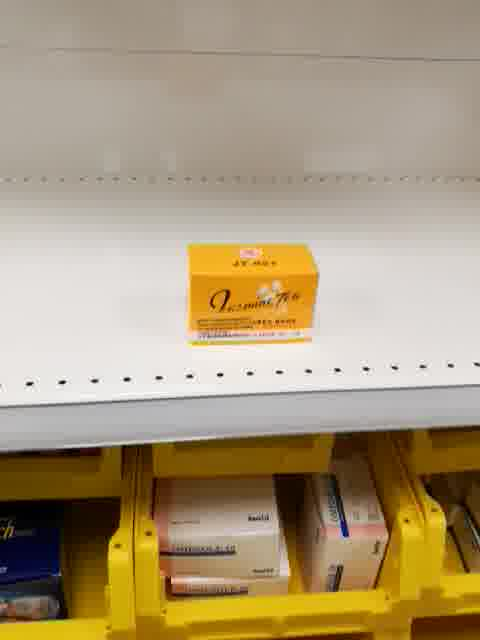jasminetea: (184, 240, 321, 346)
